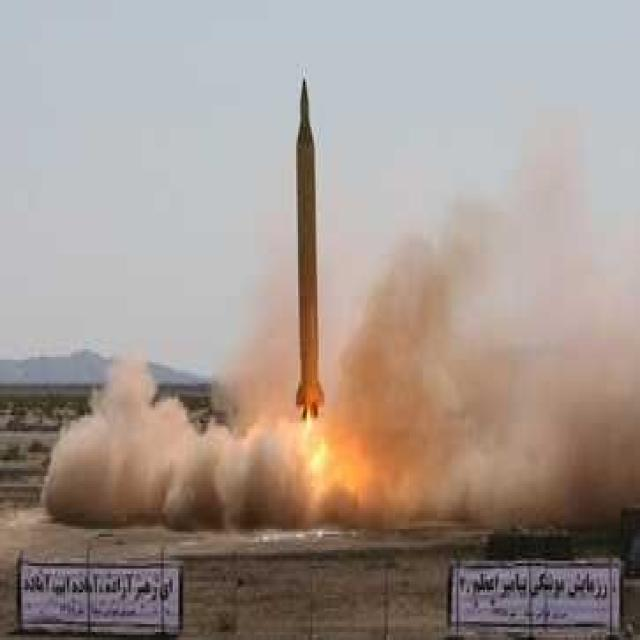missile: (291, 73, 327, 419)
